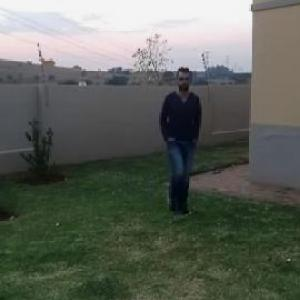follow: (159, 66, 205, 202)
